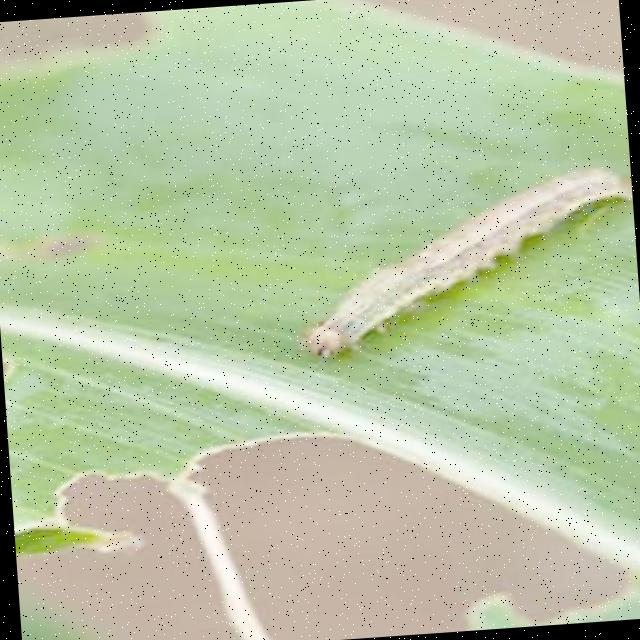worm: (291, 162, 640, 362)
